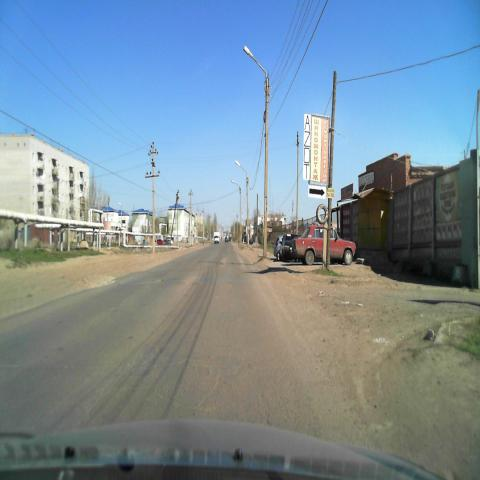8_3_1: (308, 184, 327, 198)
